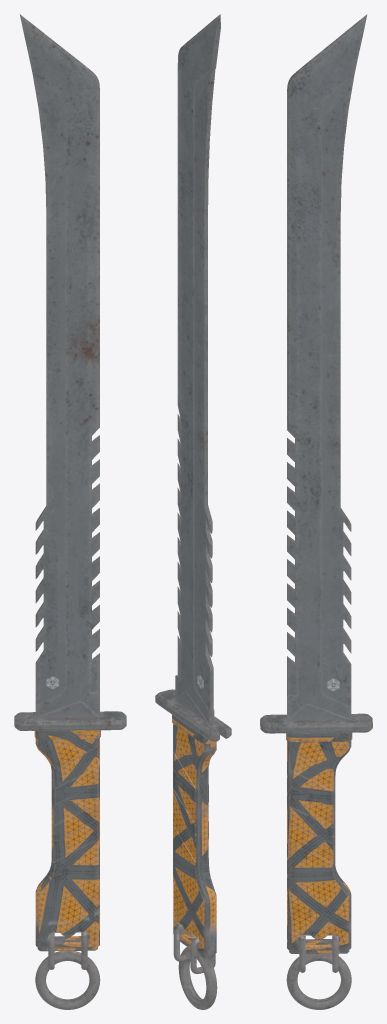
The model's file is Steel Katana.glb.
The picture shows the model from 3 angles, left to right: view 1: azimuth 90°, elevation 25°; view 2: azimuth 210°, elevation 25°; view 3: azimuth 270°, elevation 25°; orthographic projection.
Parts seen in each view (by area): view 1: Katana; view 2: Katana; view 3: Katana.
Boxes of the visible parts, x1,y1,x2,y2 form: Katana: (14,14,126,1009); Katana: (155,14,231,1009); Katana: (260,14,372,1009).
Size of the model in its own units: 0.0344 by 1.3 by 0.1335.
1 material, 1 textured.
